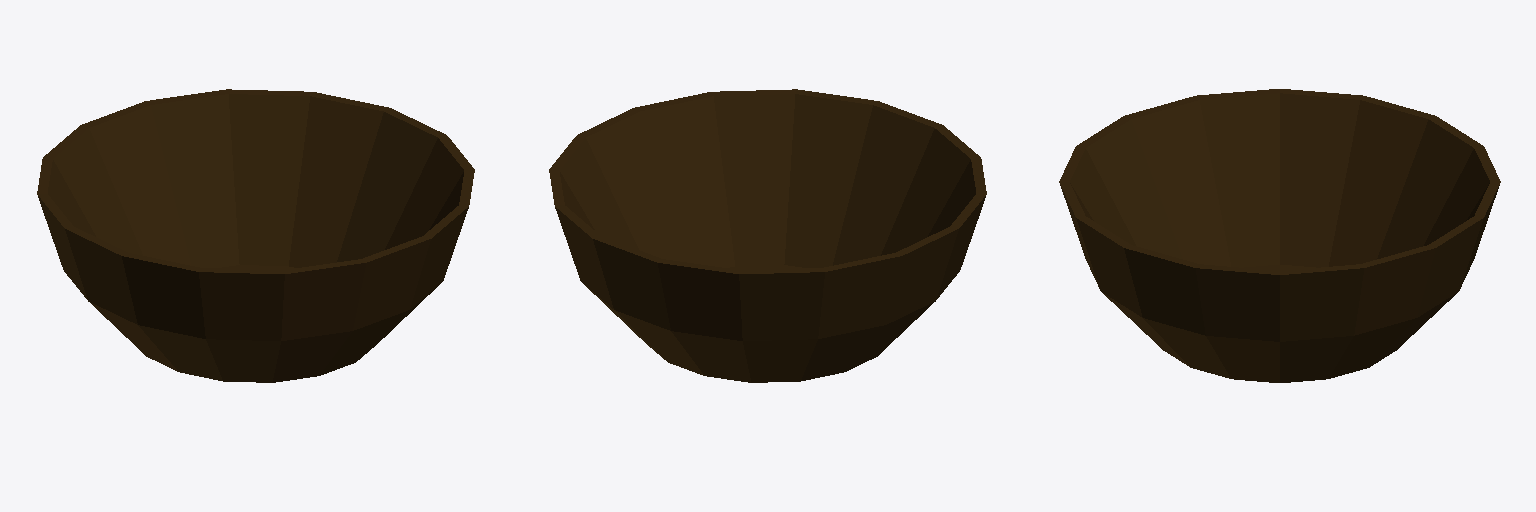
Rendered from bowl.obj.
The picture shows the model from 3 angles: view 1: azimuth 30°, elevation 25°; view 2: azimuth 150°, elevation 25°; view 3: azimuth 270°, elevation 25°; orthographic projection.
Parts seen in each view (by area): view 1: DinnerBowl_Tube.002; view 2: DinnerBowl_Tube.002; view 3: DinnerBowl_Tube.002.
Boxes of the visible parts, x1,y1,x2,y2 form: DinnerBowl_Tube.002: [37, 89, 474, 382]; DinnerBowl_Tube.002: [549, 89, 986, 382]; DinnerBowl_Tube.002: [1059, 89, 1500, 382].
Size of the model in its own units: 1.27 by 0.4703 by 1.27.